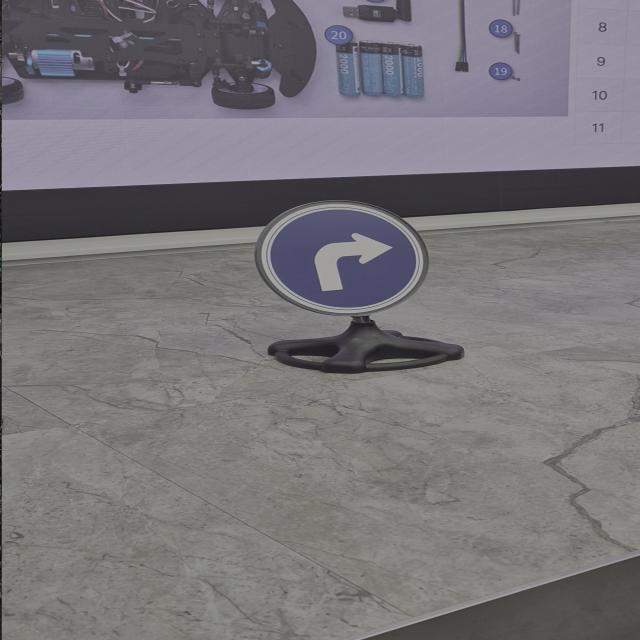right_dierection: (256, 198, 432, 319)
